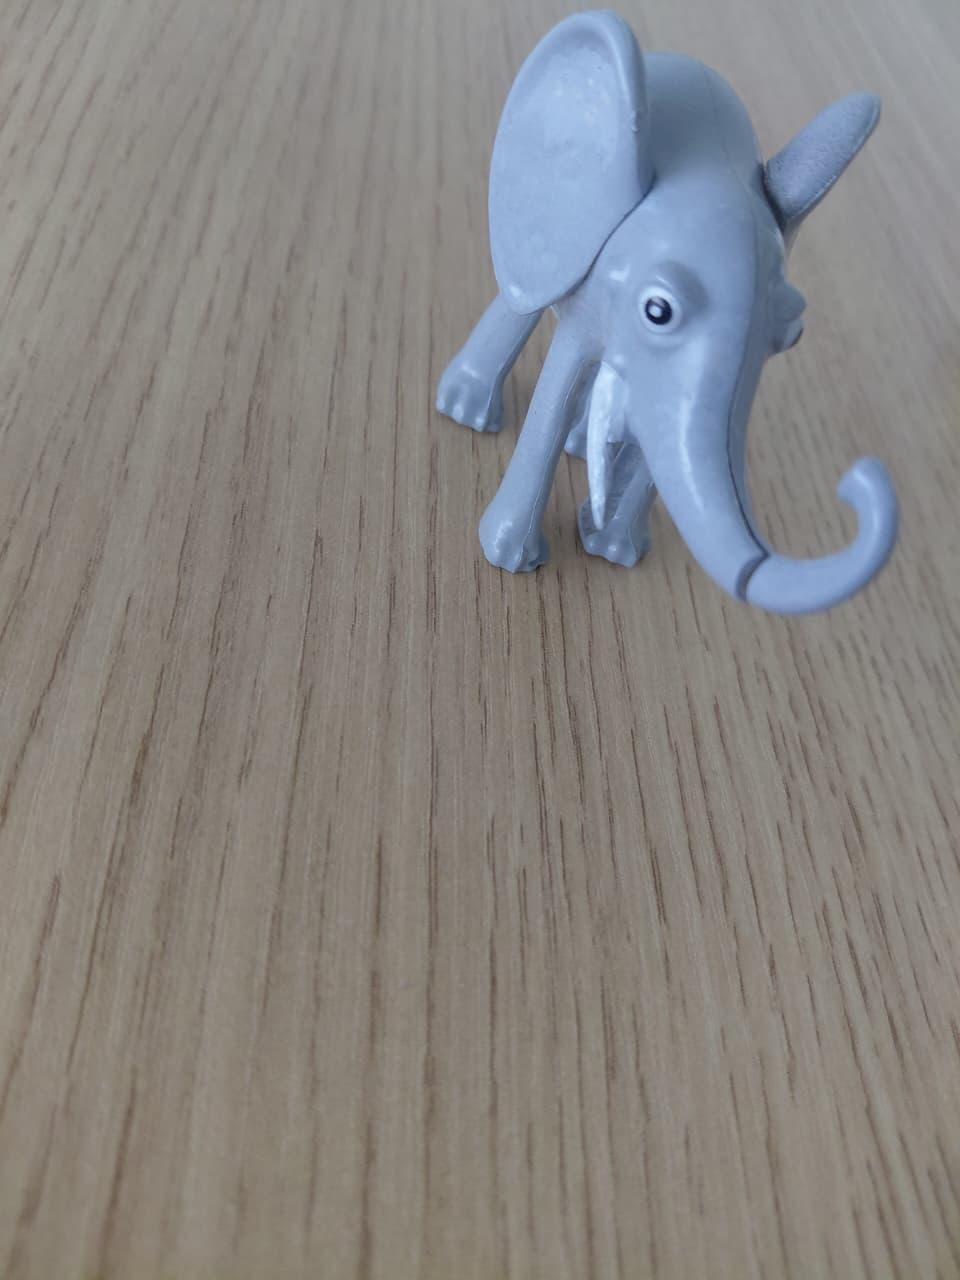elephant: (400, 15, 936, 647)
